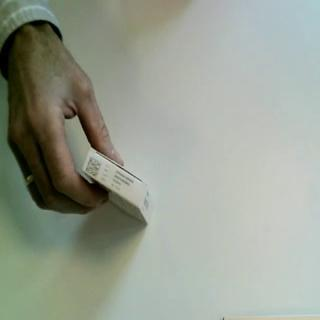oxycontin15mg: (81, 146, 158, 228)
